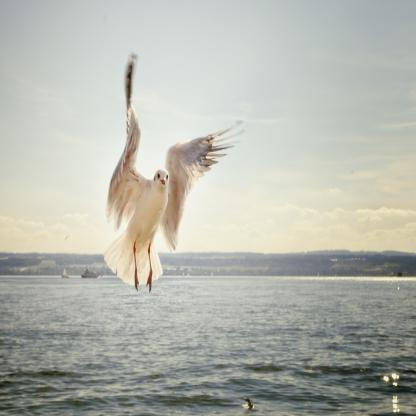bird: (105, 54, 235, 294)
